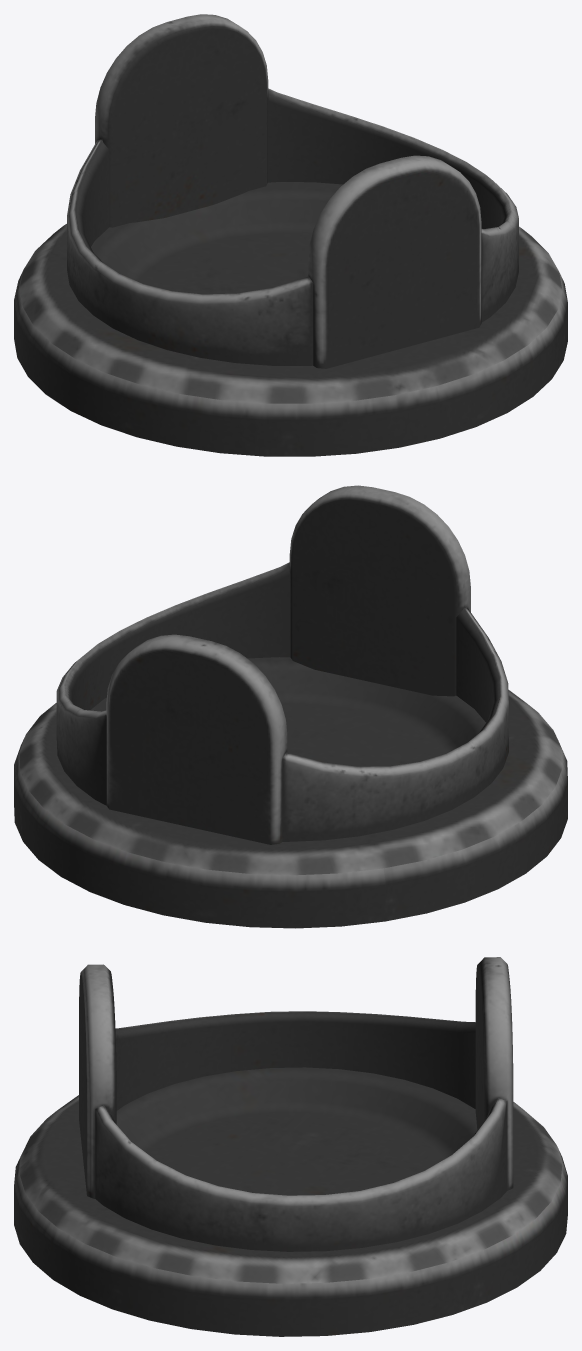
File: asset_torre.glb
The picture shows the model from 3 angles, top to bottom: view 1: azimuth 30°, elevation 25°; view 2: azimuth 150°, elevation 25°; view 3: azimuth 270°, elevation 25°; orthographic projection.
Visible parts, largest first — view 1: Base_preta_rotacao; view 2: Base_preta_rotacao; view 3: Base_preta_rotacao.
Boxes of the visible parts, x1,y1,x2,y2 form: Base_preta_rotacao: (14,14,567,456); Base_preta_rotacao: (14,485,567,928); Base_preta_rotacao: (14,957,567,1336).
Bounding box in the file's own units: 0.0684 × 0.0334 × 0.0683.
1 material, 1 textured.
